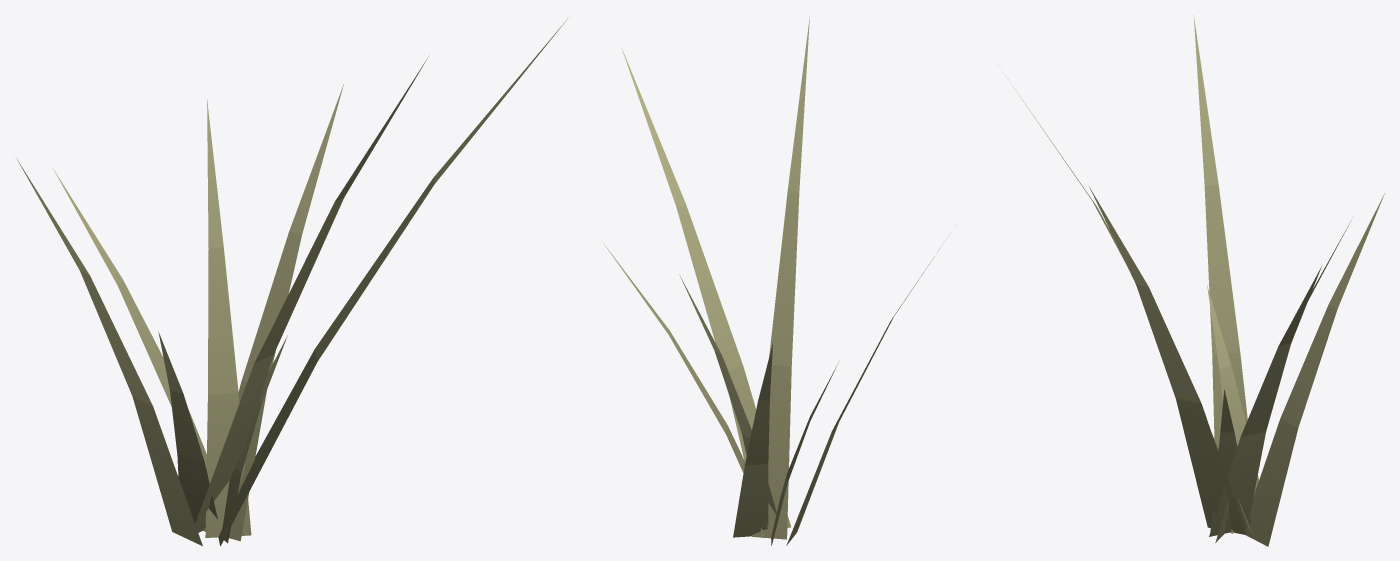
The model's file is grass_6.glb.
3 renders of one model, left to right at view 1: azimuth 30°, elevation 25°; view 2: azimuth 150°, elevation 25°; view 3: azimuth 270°, elevation 25°, orthographic. The views are drawn at different scales.
Parts seen in each view (by area): view 1: grass_6.001; view 2: grass_6.001; view 3: grass_6.001.
Boxes of the visible parts, x1,y1,x2,y2 form: grass_6.001: (16, 19, 567, 546); grass_6.001: (604, 16, 939, 545); grass_6.001: (1005, 15, 1384, 546).
Size of the model in its own units: 0.6218 by 0.6618 by 0.4598.
